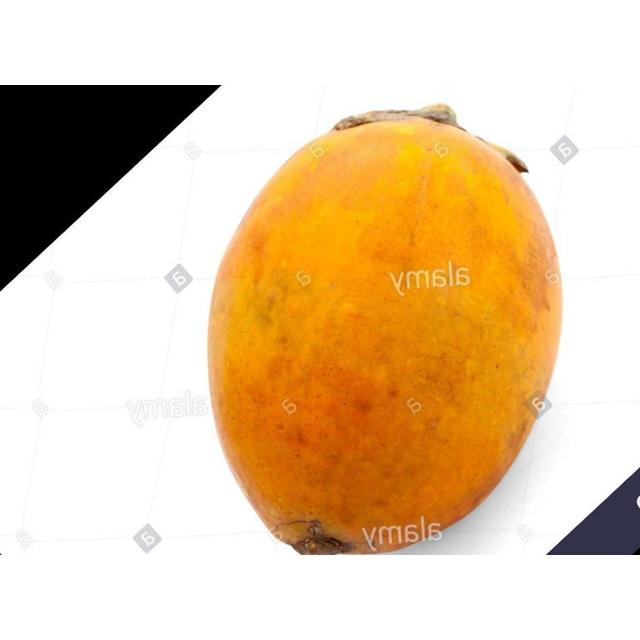good: (206, 112, 565, 555)
